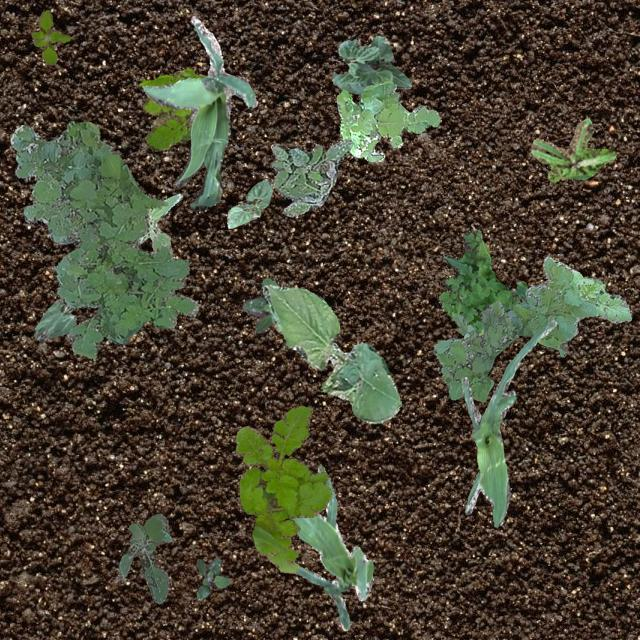crop: (140, 14, 256, 210), (460, 320, 556, 526), (262, 284, 401, 422), (288, 462, 372, 630), (332, 34, 411, 94), (226, 178, 270, 228), (33, 298, 76, 340)
weed: (10, 120, 198, 358), (432, 255, 630, 400), (234, 404, 330, 572), (438, 228, 526, 334), (336, 80, 440, 160), (270, 137, 352, 215), (528, 118, 614, 182), (138, 68, 202, 150), (116, 512, 172, 602), (138, 192, 182, 250), (30, 8, 70, 64), (242, 278, 278, 332), (194, 556, 228, 598)
